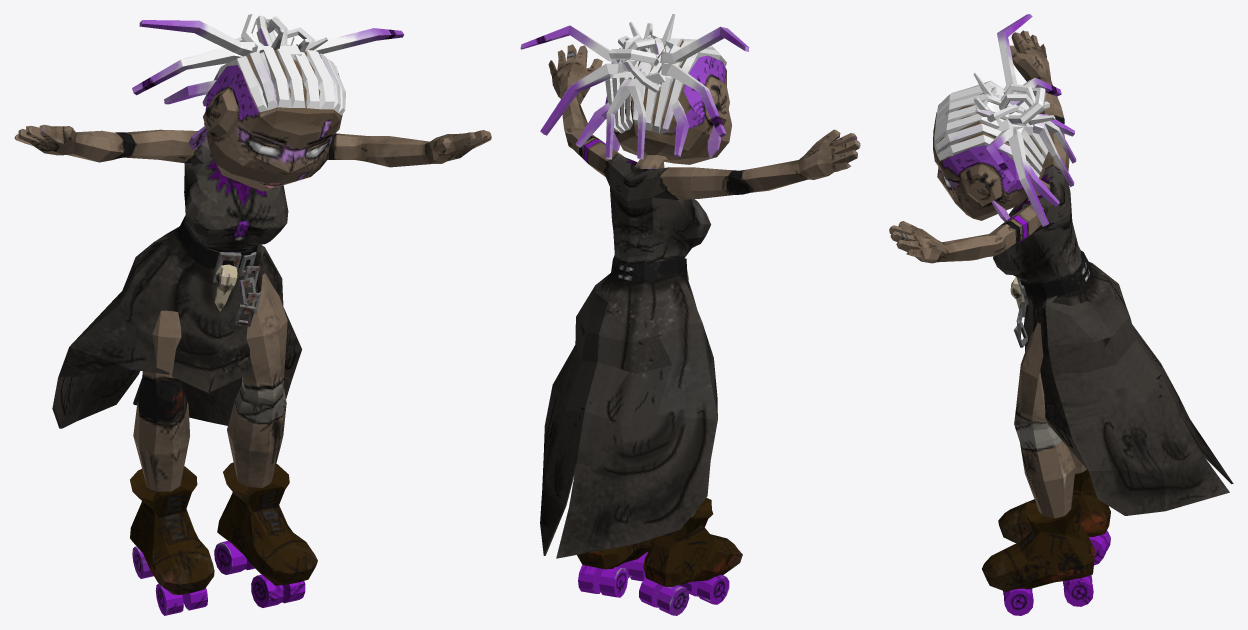
File: bruja_000160.obj
The picture shows the model from 3 angles, left to right: view 1: azimuth 30°, elevation 25°; view 2: azimuth 150°, elevation 25°; view 3: azimuth 270°, elevation 25°; orthographic projection. The views are drawn at different scales.
Parts seen in each view (by area): view 1: Bruja_Plane.001; view 2: Bruja_Plane.001; view 3: Bruja_Plane.001.
Part boxes in pixels (box(x1,y1,x2,y2)): Bruja_Plane.001: box(14, 14, 491, 615); Bruja_Plane.001: box(520, 14, 860, 615); Bruja_Plane.001: box(889, 14, 1233, 615).
Bounding box in the file's own units: 11.46 × 16.62 × 9.63.
